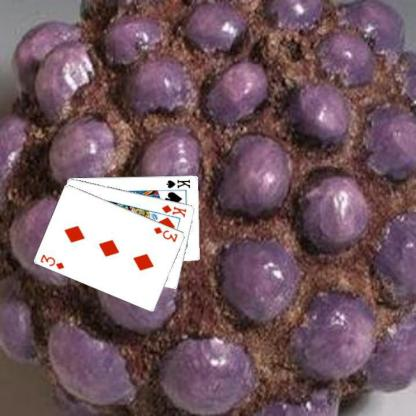3D: (151, 224, 179, 243), (38, 252, 66, 270)
KD: (159, 203, 188, 219)
KS: (163, 177, 192, 189)
